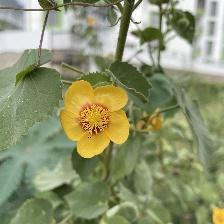indian mallow: (60, 76, 132, 161)
